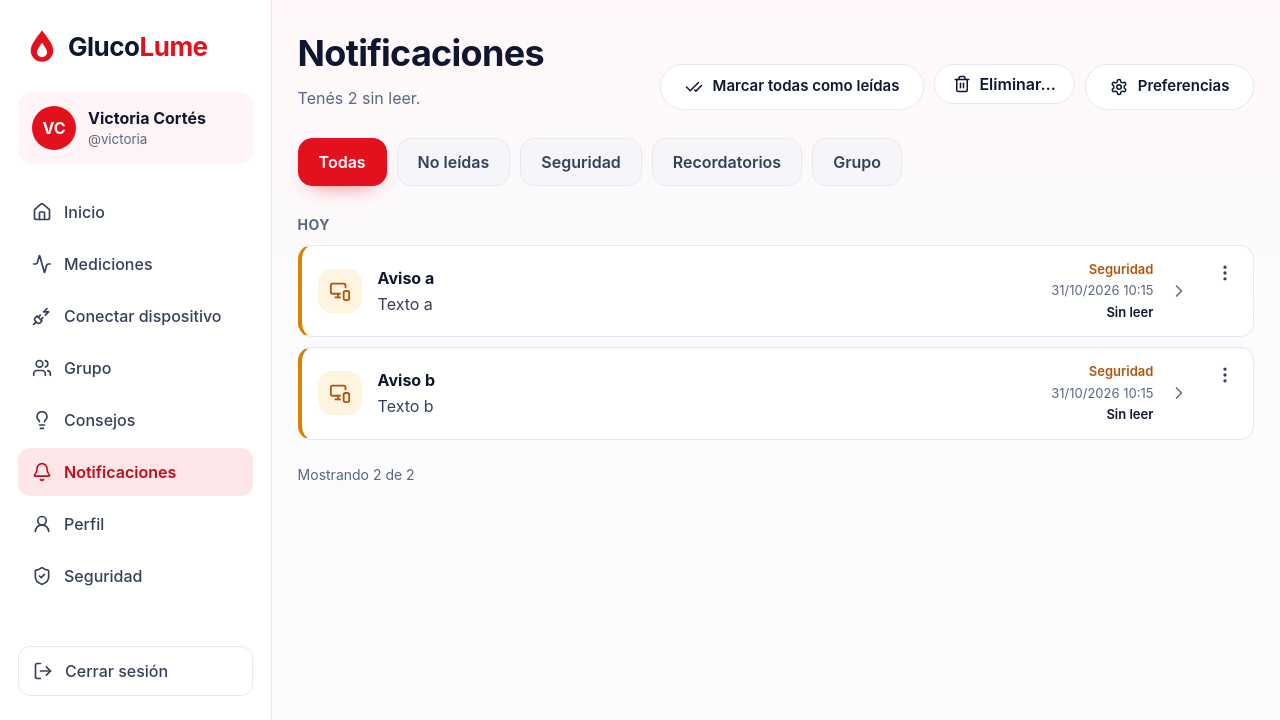
Test: Bandeja de notificaciones › marcar todas como leídas actualiza la bandeja y se revierte si falla
The width and height of the screenshot is (1280, 720).
Expected: the text "Tenés 2 sin leer." is shown, 298,88 -> 420,108
Click the button "Marcar todas como leídas".
click(792, 87)  # box 660,64 -> 924,110
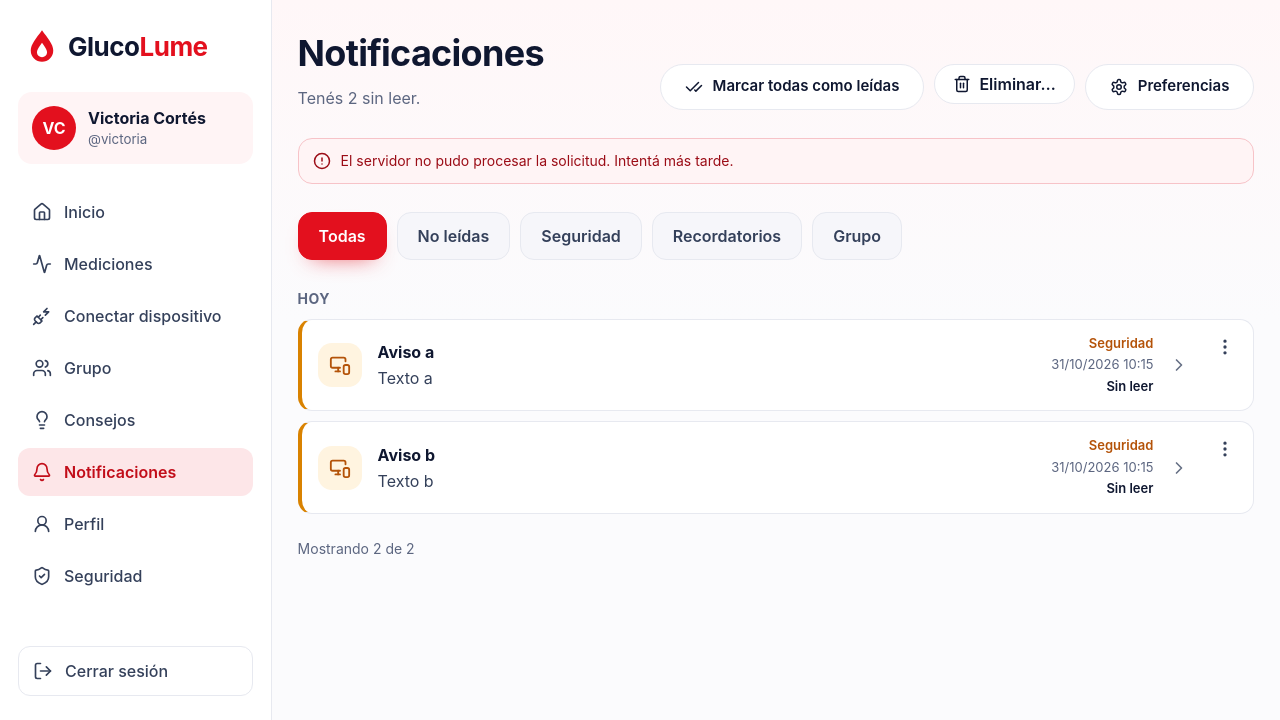
Expected: the text "Tenés 2 sin leer." is shown, 298,88 -> 420,108
Expected: the message "El servidor no pudo procesar la solicitud. Intentá más tarde." is shown, 298,138 -> 1254,184
Click the button "Marcar todas como leídas".
click(792, 87)  # box 660,64 -> 924,110
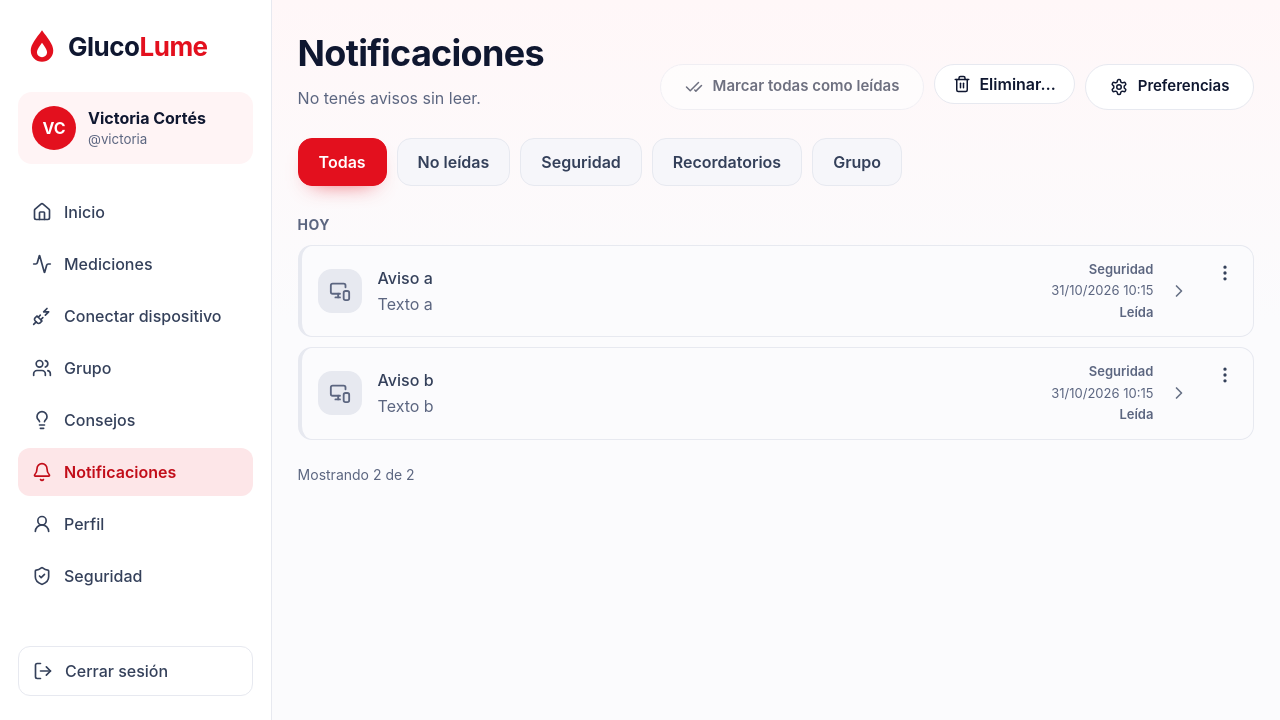
Expected: the text "No tenés avisos sin leer." is shown, 298,88 -> 481,108
